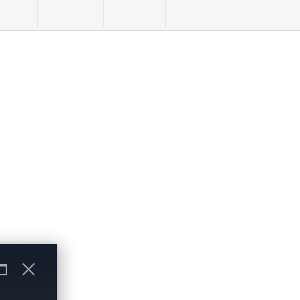close: (12, 254, 44, 284)
